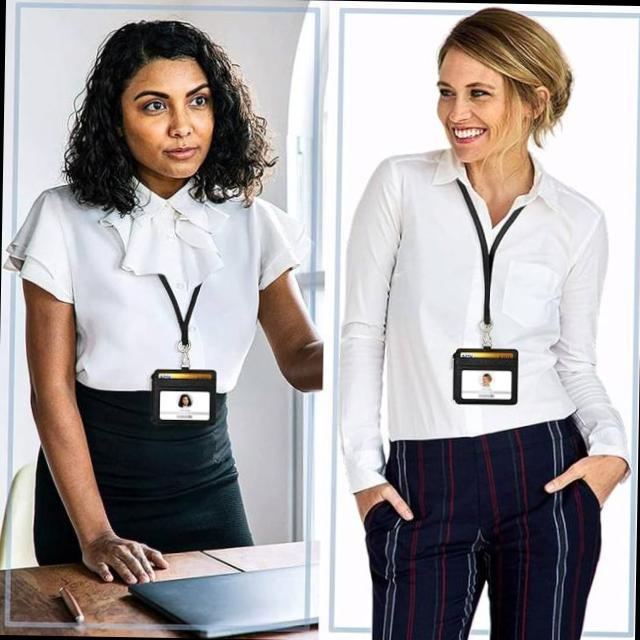id_card: (445, 175, 523, 401), (152, 232, 224, 429)
